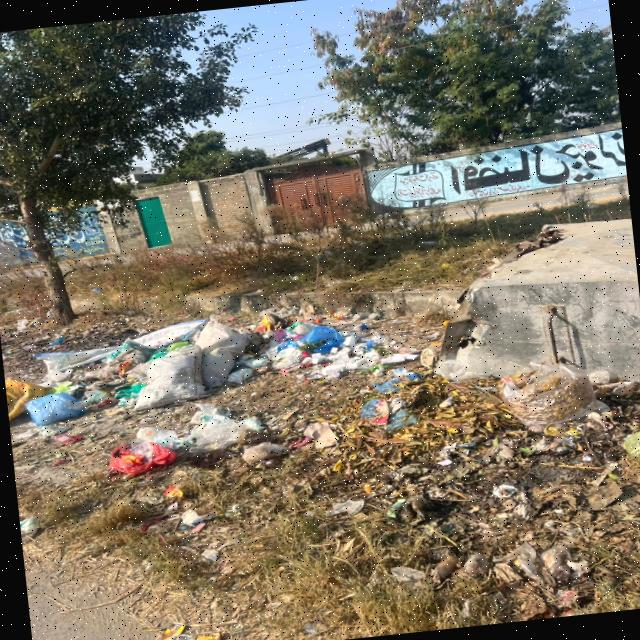garbage: (0, 298, 407, 424), (311, 353, 594, 461), (104, 404, 284, 480)
